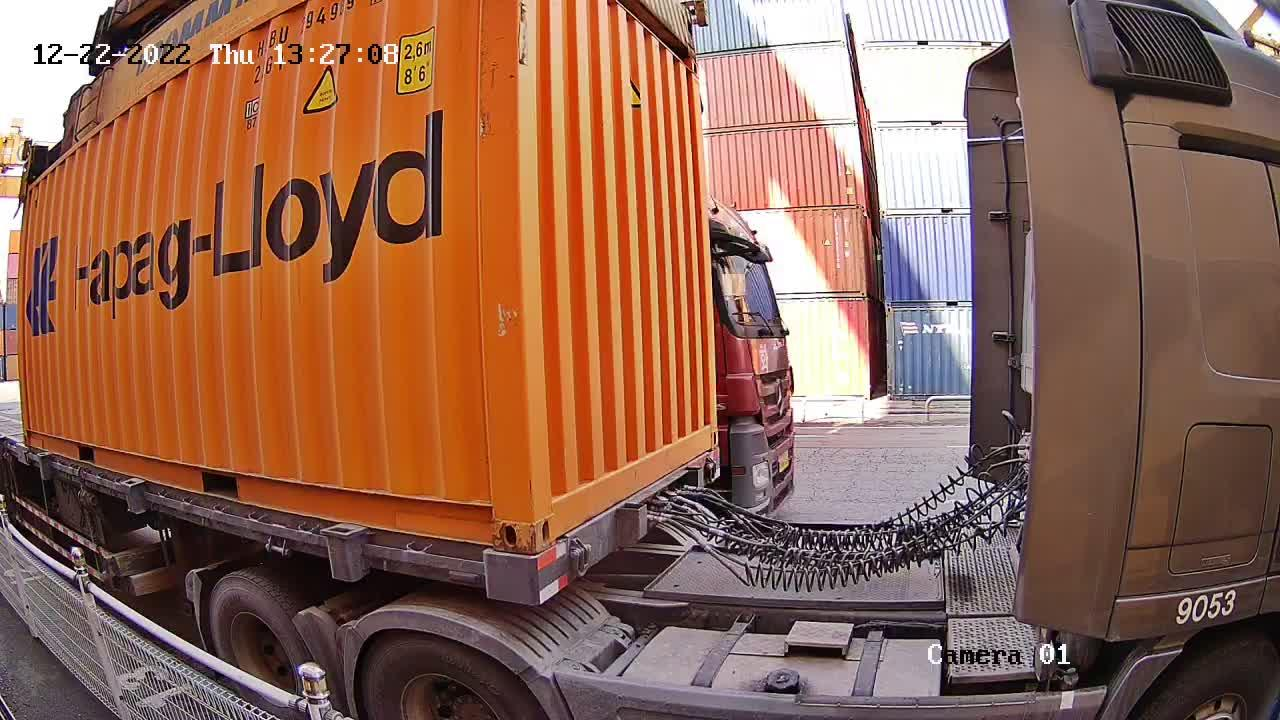Chassis: (486, 449, 723, 597)
Hole_L: (534, 471, 582, 553)
Hole_R: (459, 479, 534, 550), (685, 407, 720, 458)
Tire: (365, 637, 535, 719), (209, 576, 309, 690)
